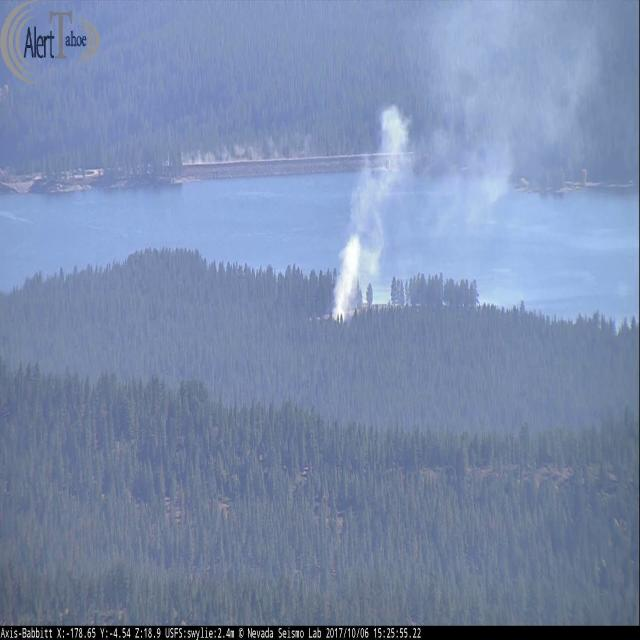smoke: (328, 0, 609, 324)
